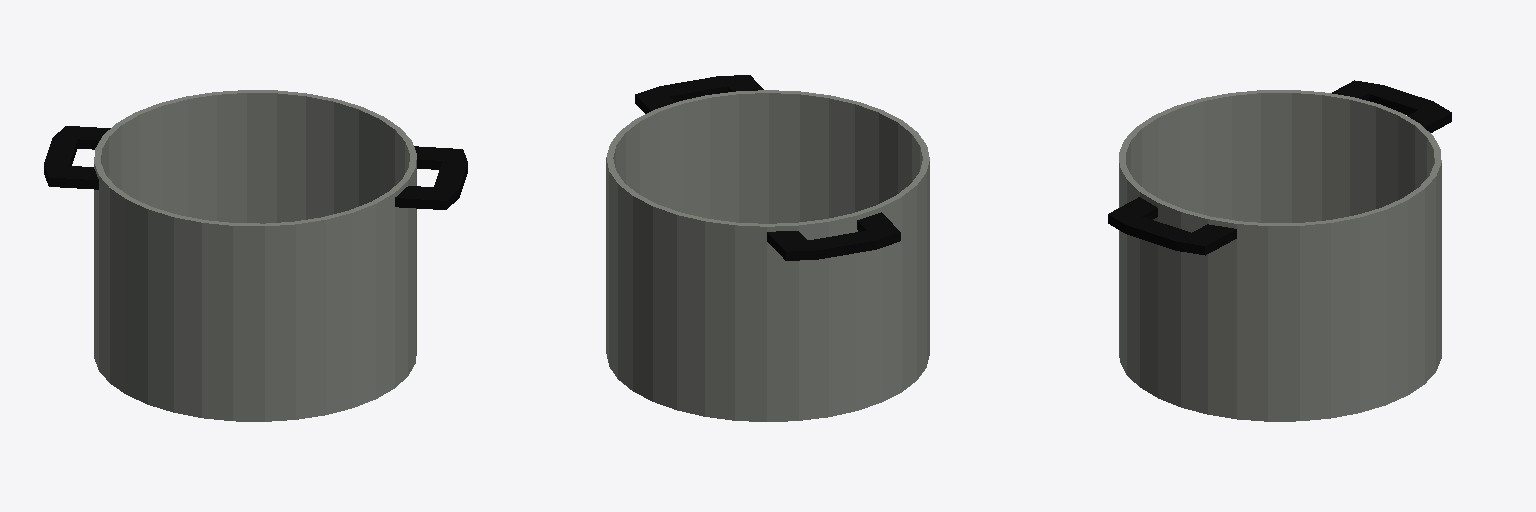
3 renders of one model, left to right at view 1: azimuth 30°, elevation 25°; view 2: azimuth 150°, elevation 25°; view 3: azimuth 270°, elevation 25°, orthographic.
Visible parts, largest first — view 1: Cilindro.008_Cilindro.006; view 2: Cilindro.008_Cilindro.006; view 3: Cilindro.008_Cilindro.006.
Part boxes in pixels (x1,y1,x2,y2): Cilindro.008_Cilindro.006: (44, 90, 467, 421); Cilindro.008_Cilindro.006: (606, 75, 929, 421); Cilindro.008_Cilindro.006: (1108, 80, 1451, 421).
Size of the model in its own units: 0.5458 by 0.3 by 0.4789.
Materials: 1 (1 with a texture image).